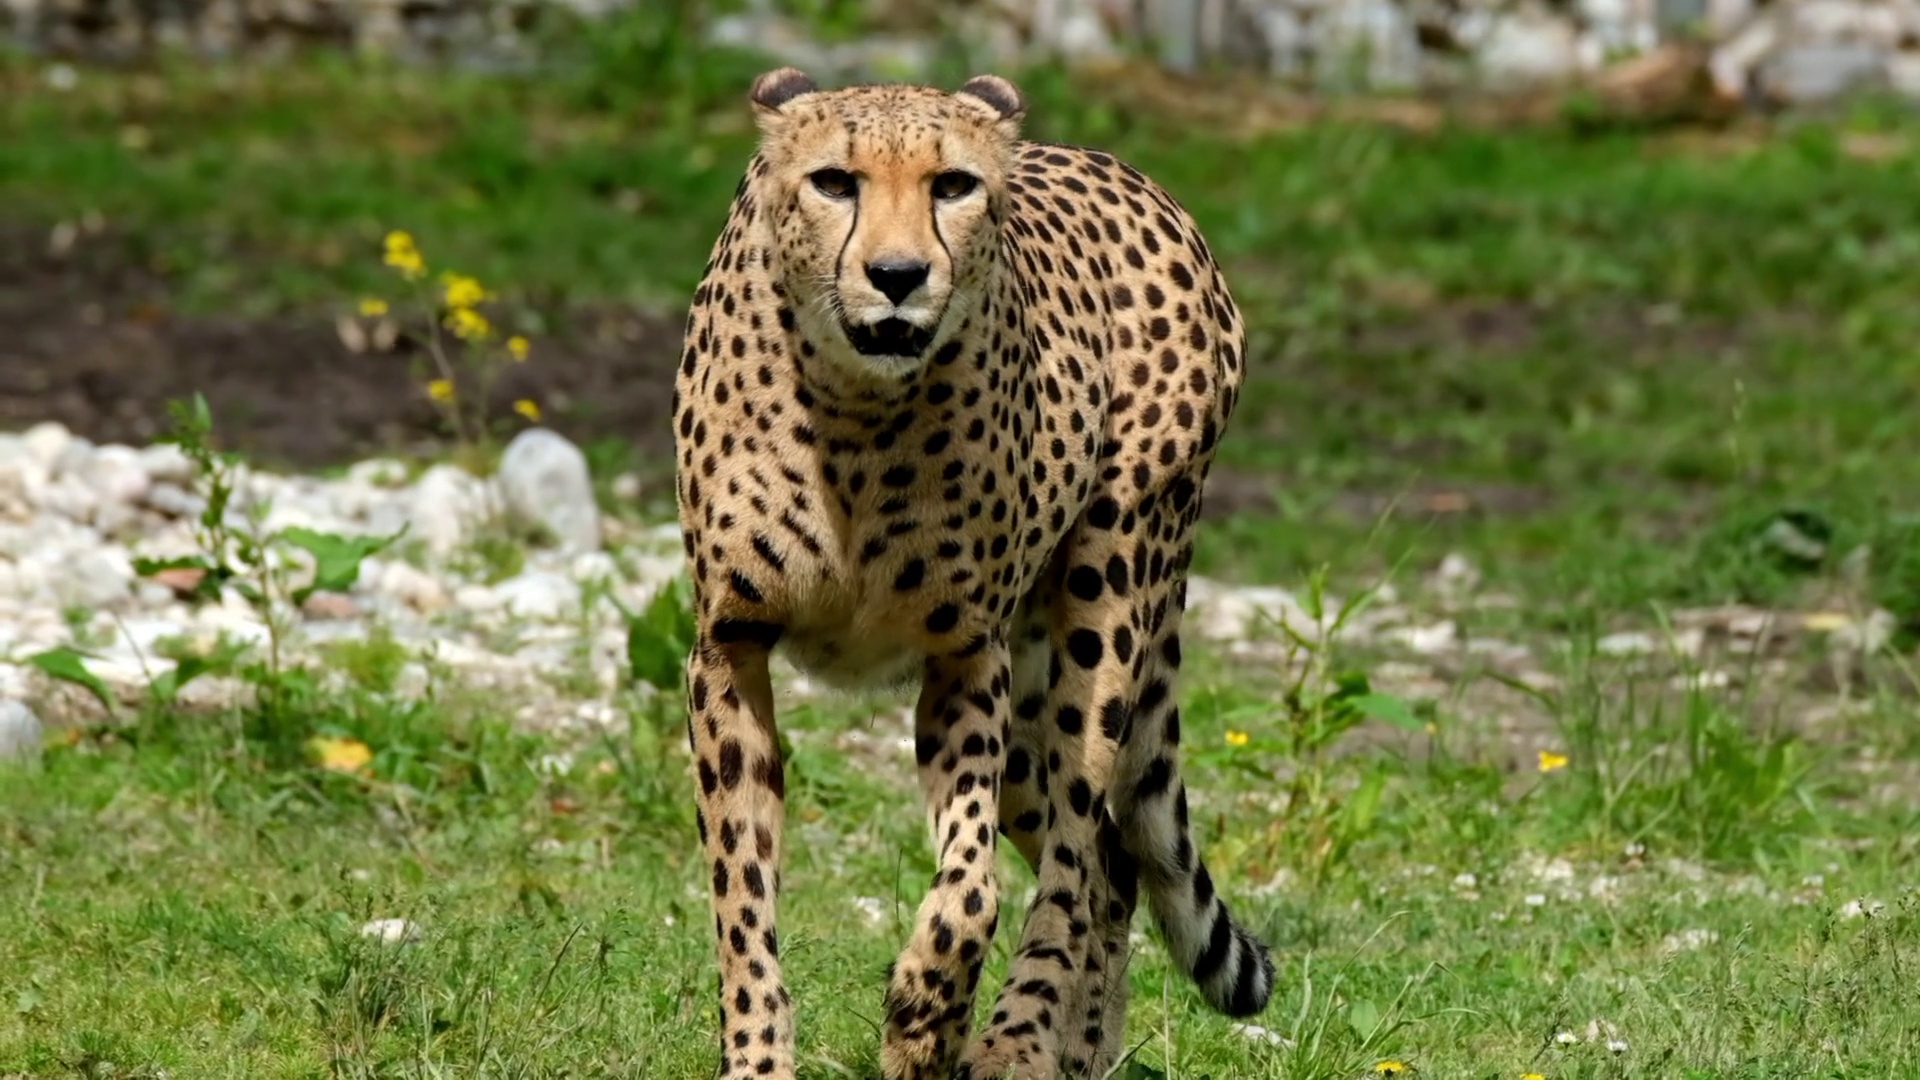Cheetah: (666, 65, 1279, 1080)
